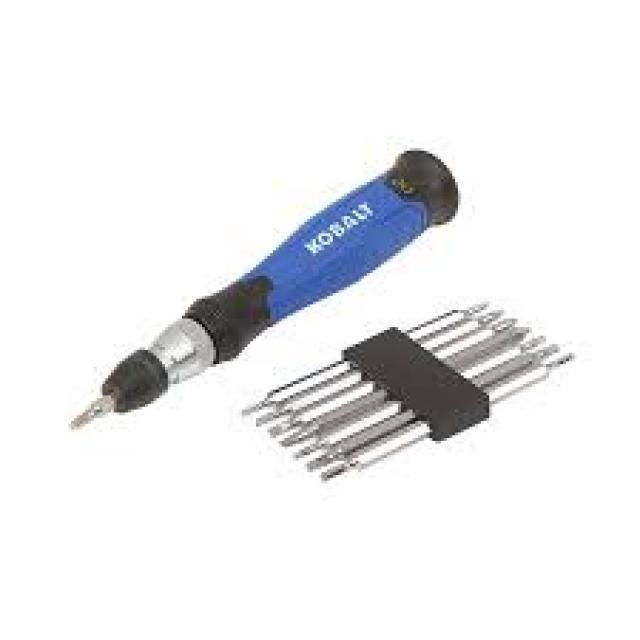drill: (48, 136, 510, 434)
